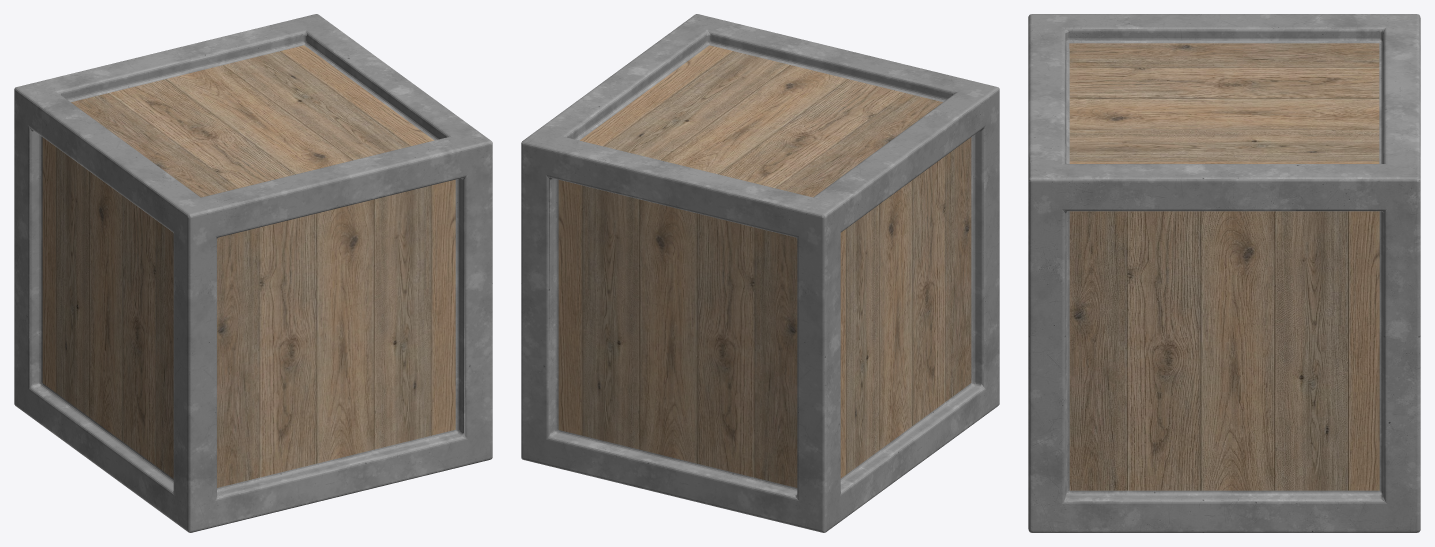
Rendered from Caixote .glb.
3 renders of one model, left to right at view 1: azimuth 30°, elevation 25°; view 2: azimuth 150°, elevation 25°; view 3: azimuth 270°, elevation 25°, orthographic. The views are drawn at different scales.
Parts seen in each view (by area): view 1: Cube.002, Cube.001; view 2: Cube.002, Cube.001; view 3: Cube.002, Cube.001.
Boxes of the visible parts, <box> form: Cube.002: <box>42,45,455,487</box>; Cube.001: <box>14,14,492,532</box>; Cube.002: <box>558,45,971,487</box>; Cube.001: <box>521,14,999,532</box>; Cube.002: <box>1069,43,1379,490</box>; Cube.001: <box>1028,14,1420,532</box>.
Bounding box in the file's own units: 0.6654 × 0.665 × 0.6654.
Materials: 2 (2 with a texture image).
